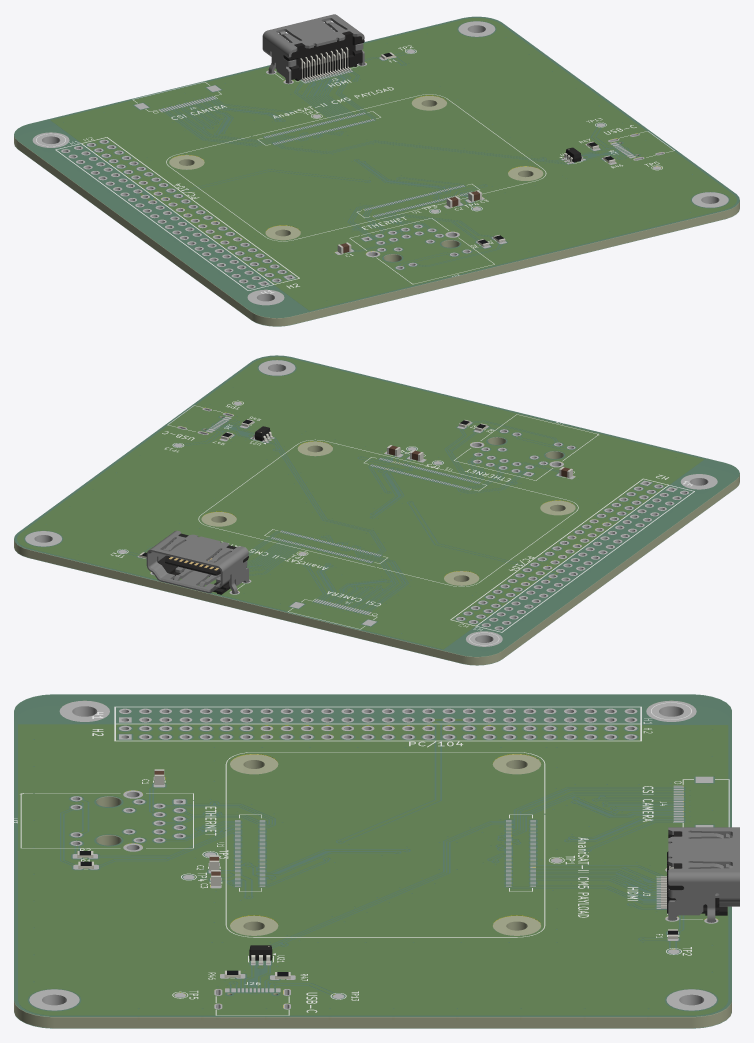
Rendered from board.glb.
3 renders of one model, top to bottom at view 1: azimuth 30°, elevation 25°; view 2: azimuth 150°, elevation 25°; view 3: azimuth 270°, elevation 25°, orthographic. The views are drawn at different scales.
Visible parts, largest first — view 1: =>[0:1:1:15], =>[0:1:1:3]; view 2: =>[0:1:1:15], =>[0:1:1:3]; view 3: =>[0:1:1:15], =>[0:1:1:3].
Boxes of the visible parts, bbox=[...] form: =>[0:1:1:15]: bbox=[14, 16, 739, 326]; =>[0:1:1:3]: bbox=[32, 14, 736, 310]; =>[0:1:1:15]: bbox=[14, 355, 739, 665]; =>[0:1:1:3]: bbox=[17, 357, 717, 648]; =>[0:1:1:15]: bbox=[14, 694, 731, 1028]; =>[0:1:1:3]: bbox=[18, 700, 739, 1014].
Bounding box in the file's own units: 0.0959 × 0.008 × 0.0912.
Materials: 2 (2 with a texture image).
